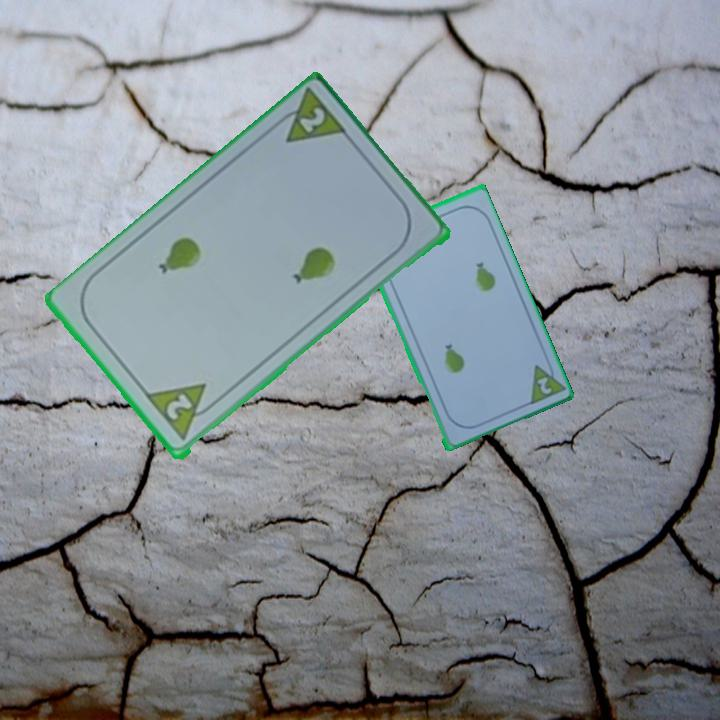2p: (162, 390, 196, 424), (295, 104, 328, 137), (533, 373, 554, 397)
